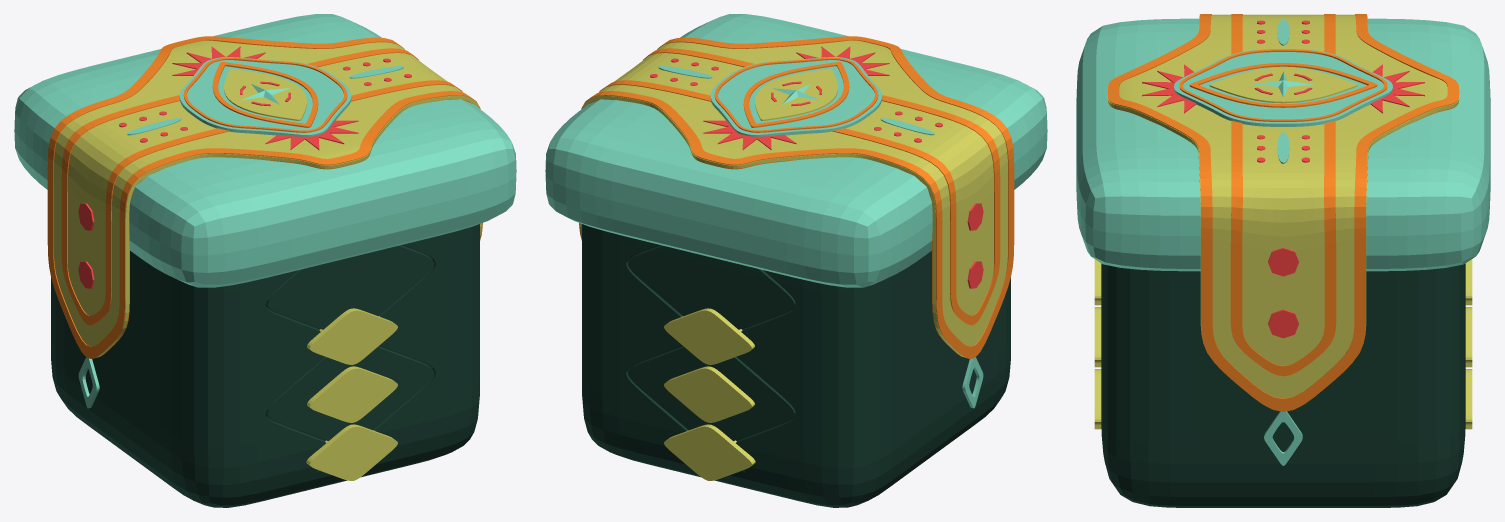
Rendered from SaveBlock_edit.fbx.
3 renders of one model, left to right at view 1: azimuth 30°, elevation 25°; view 2: azimuth 150°, elevation 25°; view 3: azimuth 270°, elevation 25°, orthographic. The views are drawn at different scales.
Visible parts, largest first — view 1: block3_carpet; view 2: block3_carpet; view 3: block3_carpet.
Boxes of the visible parts, box(x1,y1,x2,y2) form: block3_carpet: box(14, 14, 516, 507); block3_carpet: box(545, 14, 1047, 507); block3_carpet: box(1076, 14, 1490, 507).
Bounding box in the file's own units: 243 × 223 × 227.
